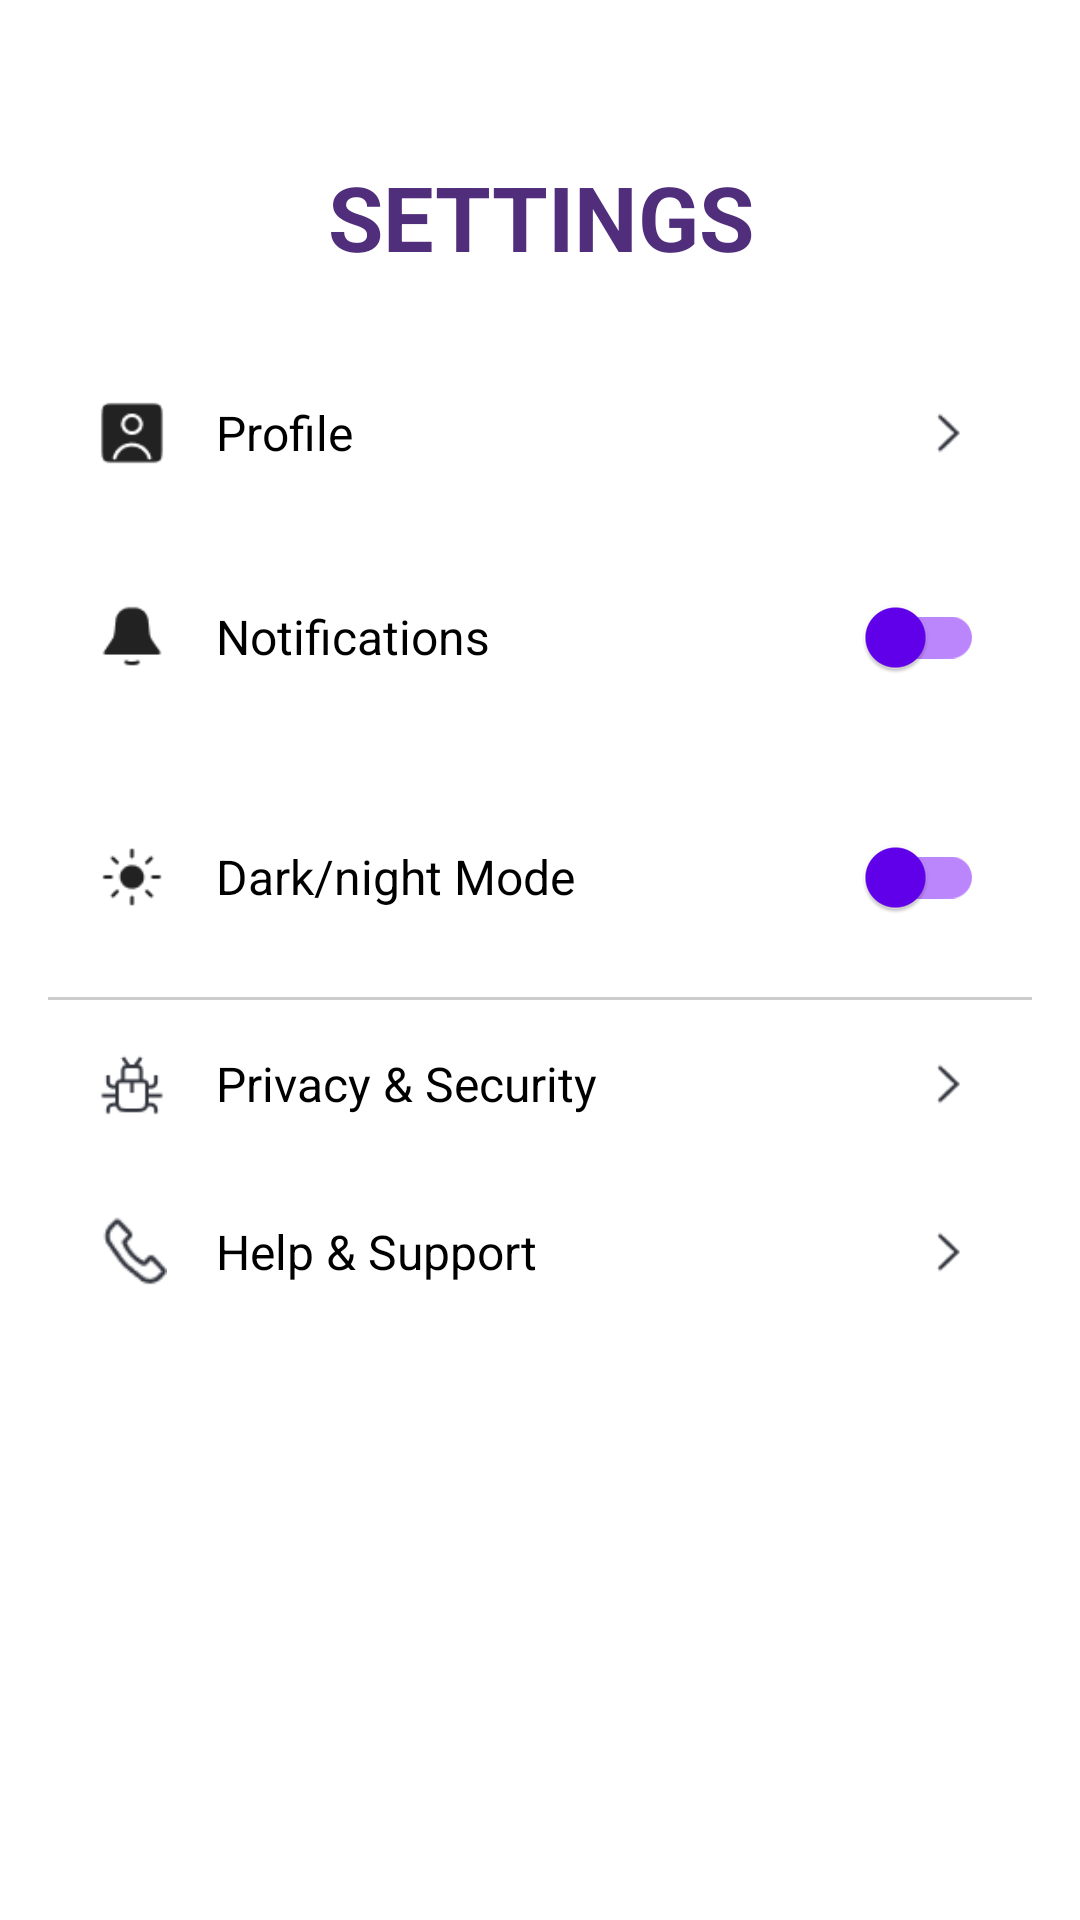

Locate icon controls on the screen. Image size 1080 x 1920, boxes as box=[x1, y1, x2, y2].
Arrow right: box=[938, 414, 960, 452], box=[938, 1065, 960, 1103], box=[938, 1233, 960, 1271]
